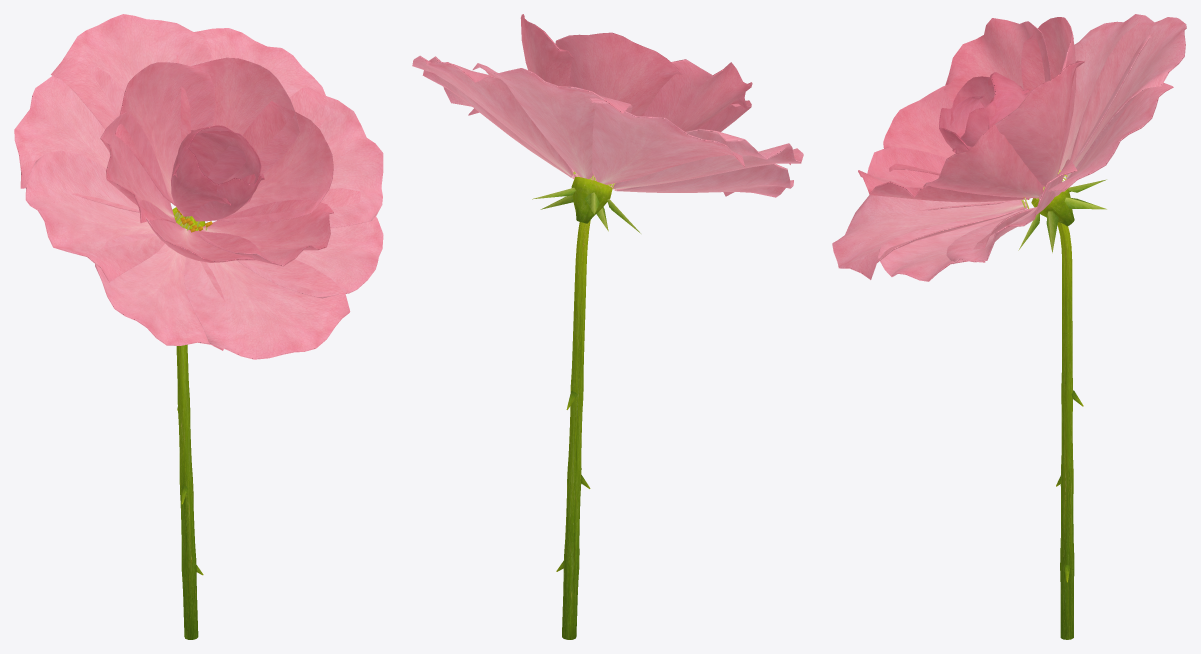
File: rose_18.glb
3 renders of one model, left to right at view 1: azimuth 30°, elevation 25°; view 2: azimuth 150°, elevation 25°; view 3: azimuth 270°, elevation 25°, orthographic. The views are drawn at different scales.
Parts seen in each view (by area): view 1: Petal_4_outer_01, Petal_2_outer_02, Petal_0_outer_01, Petal_12_middle_01, Petal_3_outer_04, Petal_1_outer_03, Petal_10_middle_02, Petal_6_outer_02, Petal_11_middle_04, Petal_5_outer_04, Petal_9_middle_03, Stem_Skinned (+7 smaller); view 2: Petal_1_outer_03, Petal_12_middle_01, Petal_0_outer_01, Stem_Skinned, Petal_13_middle_03, Petal_7_outer_03, Petal_2_outer_02, Petal_3_outer_04, Petal_11_middle_04, Hypanthium_and_five_sepals, Petal_6_outer_02, Petal_8_middle_01; view 3: Petal_0_outer_01, Petal_4_outer_01, Stem_Skinned, Petal_11_middle_04, Petal_10_middle_02, Petal_13_middle_03, Petal_9_middle_03, Petal_5_outer_04, Petal_1_outer_03, Petal_8_middle_01, Petal_12_middle_01, Petal_7_outer_03 (+6 smaller).
Boxes of the visible parts, box(x1,y1,x2,y2) form: Petal_4_outer_01: box(184, 257, 350, 359); Petal_2_outer_02: box(25, 150, 164, 282); Petal_0_outer_01: box(51, 14, 211, 129); Petal_12_middle_01: box(114, 62, 215, 205); Petal_3_outer_04: box(95, 233, 225, 350); Petal_1_outer_03: box(14, 64, 139, 212); Petal_10_middle_02: box(217, 101, 333, 222); Petal_6_outer_02: box(215, 87, 383, 228); Petal_11_middle_04: box(180, 57, 299, 173); Petal_5_outer_04: box(237, 188, 383, 298); Petal_9_middle_03: box(198, 199, 333, 266); Stem_Skinned: box(176, 216, 203, 639); Petal_1_outer_03: box(589, 98, 744, 184); Petal_12_middle_01: box(555, 32, 682, 116); Petal_0_outer_01: box(472, 63, 632, 179); Stem_Skinned: box(556, 220, 590, 639); Petal_13_middle_03: box(643, 59, 752, 131); Petal_7_outer_03: box(412, 55, 573, 175); Petal_2_outer_02: box(613, 129, 803, 189); Petal_3_outer_04: box(614, 163, 793, 197); Petal_11_middle_04: box(520, 14, 574, 86); Hypanthium_and_five_sepals: box(532, 177, 640, 233); Petal_6_outer_02: box(422, 56, 574, 178); Petal_8_middle_01: box(699, 100, 751, 131); Petal_0_outer_01: box(1065, 17, 1186, 179); Petal_4_outer_01: box(832, 195, 1027, 279); Stem_Skinned: box(1056, 222, 1083, 639); Petal_11_middle_04: box(995, 60, 1084, 186); Petal_10_middle_02: box(923, 123, 1043, 198); Petal_13_middle_03: box(943, 18, 1051, 102); Petal_9_middle_03: box(858, 147, 1029, 202); Petal_5_outer_04: box(878, 208, 1033, 281); Petal_1_outer_03: box(1058, 14, 1154, 176); Petal_8_middle_01: box(883, 85, 955, 175); Petal_12_middle_01: box(1021, 17, 1076, 174); Petal_7_outer_03: box(1038, 83, 1173, 199).
Size of the model in its own units: 0.1991 by 0.3284 by 0.1763.
Materials: 7 (7 with a texture image).
